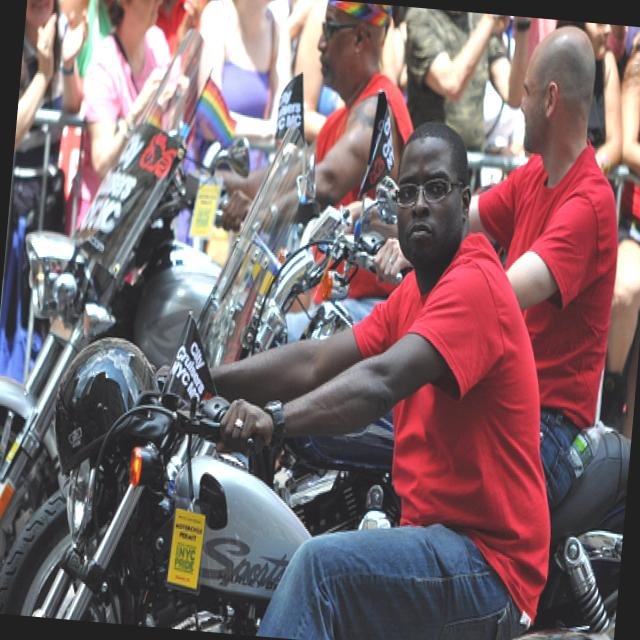Vehicle: (0, 292, 619, 640), (0, 23, 248, 630), (194, 113, 418, 384)
